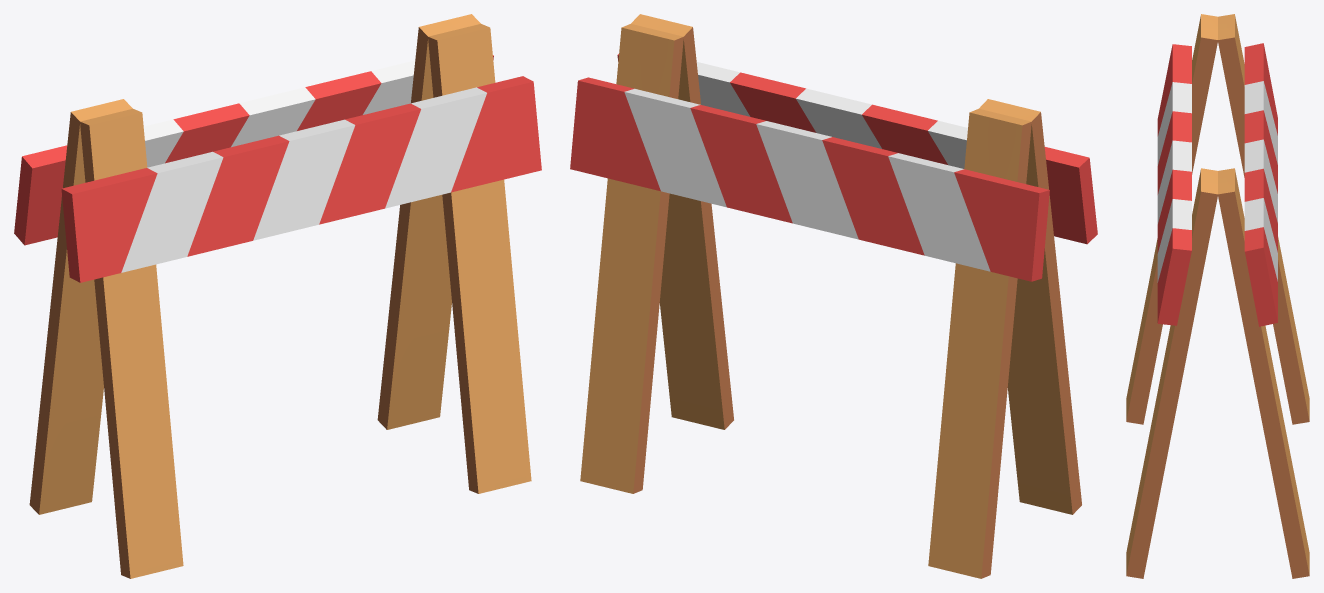
File: BarrierAs.fbx
The picture shows the model from 3 angles, left to right: view 1: azimuth 30°, elevation 25°; view 2: azimuth 150°, elevation 25°; view 3: azimuth 270°, elevation 25°; orthographic projection. The views are drawn at different scales.
Parts seen in each view (by area): view 1: Barrier; view 2: Barrier; view 3: Barrier.
Boxes of the visible parts, left/top/right/bottom form: Barrier: left=14, top=14, right=541, bottom=578; Barrier: left=570, top=14, right=1097, bottom=578; Barrier: left=1126, top=14, right=1309, bottom=578.
Bounding box in the file's own units: 3.08 × 2.72 × 1.17.
1 material, 1 textured.
